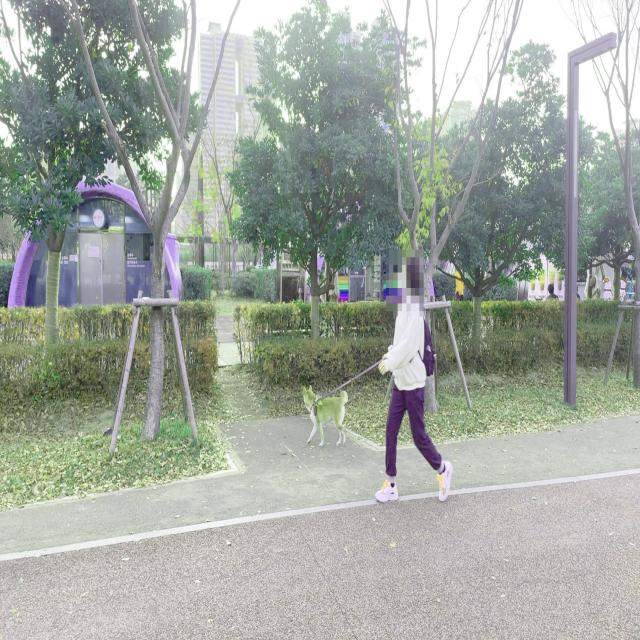Leashed_Dog: (304, 352, 413, 448)
